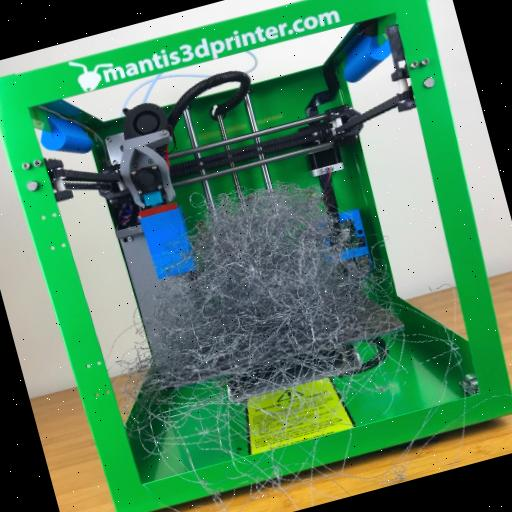spaghetti: (70, 140, 430, 432)
